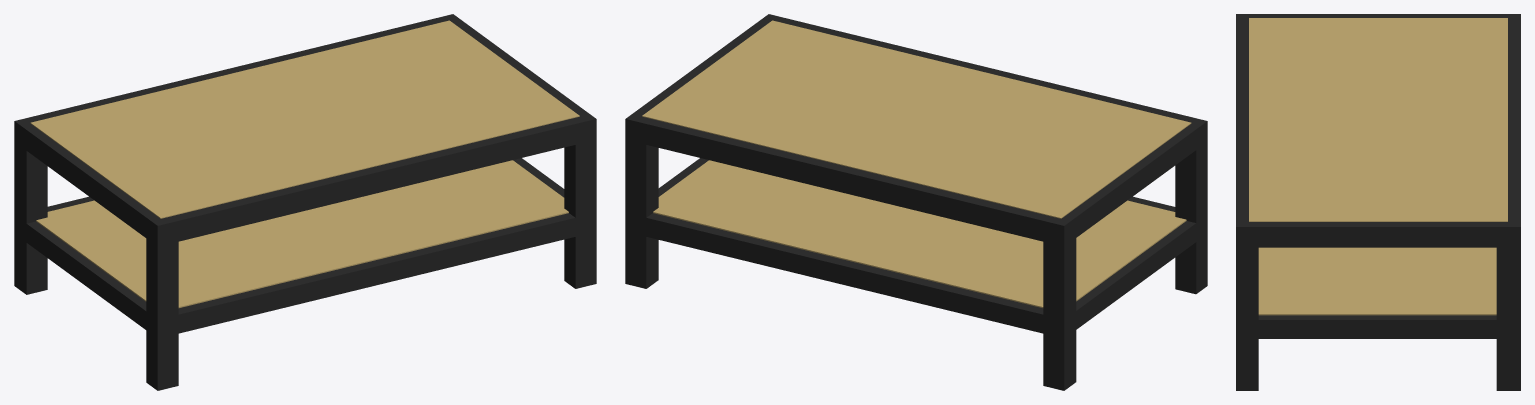
Rendered from teatable(2).fbx.
3 views of the same model, side by side, from view 1: azimuth 30°, elevation 25°; view 2: azimuth 150°, elevation 25°; view 3: azimuth 270°, elevation 25° (orthographic).
Parts seen in each view (by area): view 1: Cube.001, Cube, Cube.002; view 2: Cube.001, Cube, Cube.002; view 3: Cube.001, Cube, Cube.002.
Part boxes in pixels (box(x1,y1,x2,y2)): Cube.001: box(30, 20, 579, 218); Cube: box(14, 14, 596, 390); Cube.002: box(36, 160, 568, 307); Cube.001: box(642, 20, 1191, 218); Cube: box(625, 14, 1207, 390); Cube.002: box(653, 160, 1186, 307); Cube.001: box(1249, 18, 1507, 221); Cube: box(1236, 14, 1520, 390); Cube.002: box(1258, 247, 1496, 315).
Bounding box in the file's own units: 593 × 214 × 335.
